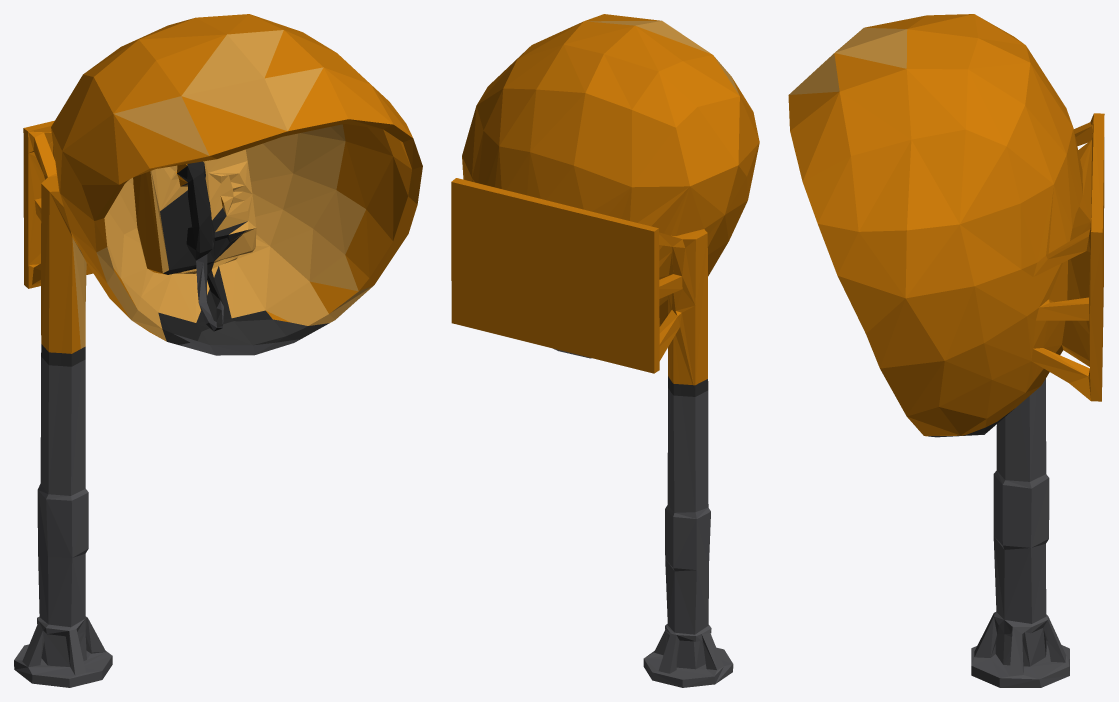
Rendered from orelhao.glb.
3 views of the same model, side by side, from view 1: azimuth 30°, elevation 25°; view 2: azimuth 150°, elevation 25°; view 3: azimuth 270°, elevation 25° (orthographic). The views are drawn at different scales.
Parts seen in each view (by area): view 1: detail; view 2: detail; view 3: detail.
Boxes of the visible parts, bbox=[...] form: detail: bbox=[14, 14, 422, 687]; detail: bbox=[451, 14, 759, 687]; detail: bbox=[788, 14, 1104, 687].
Bounding box in the file's own units: 1.05 × 1.95 × 0.8018.
